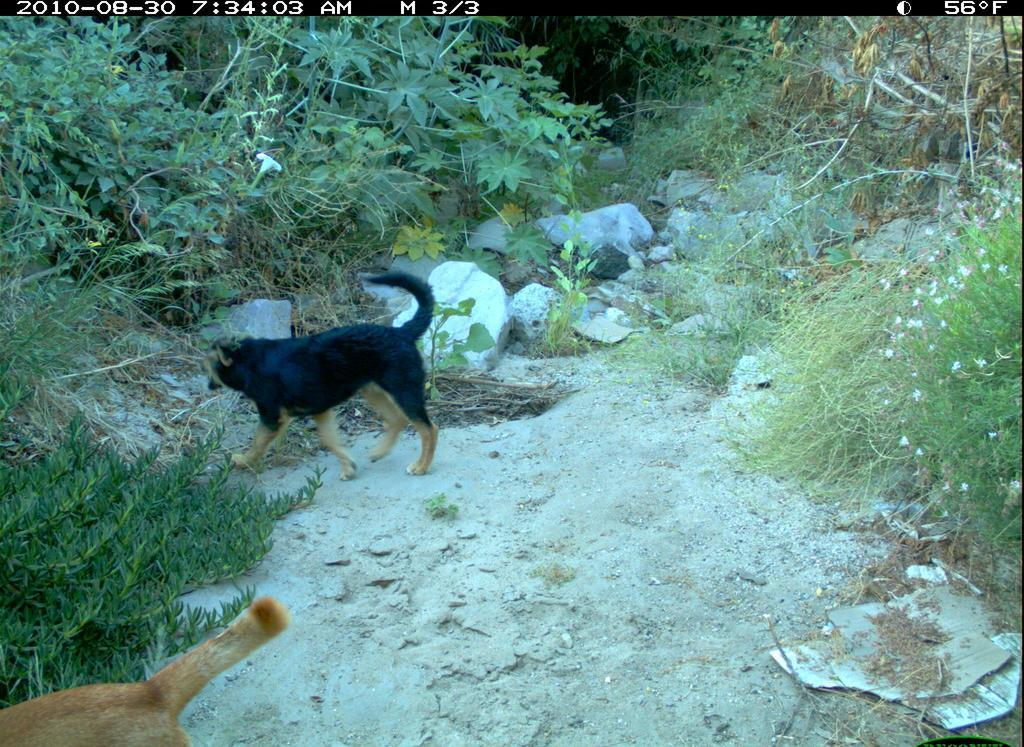dog: (205, 273, 468, 482), (7, 584, 303, 747)
